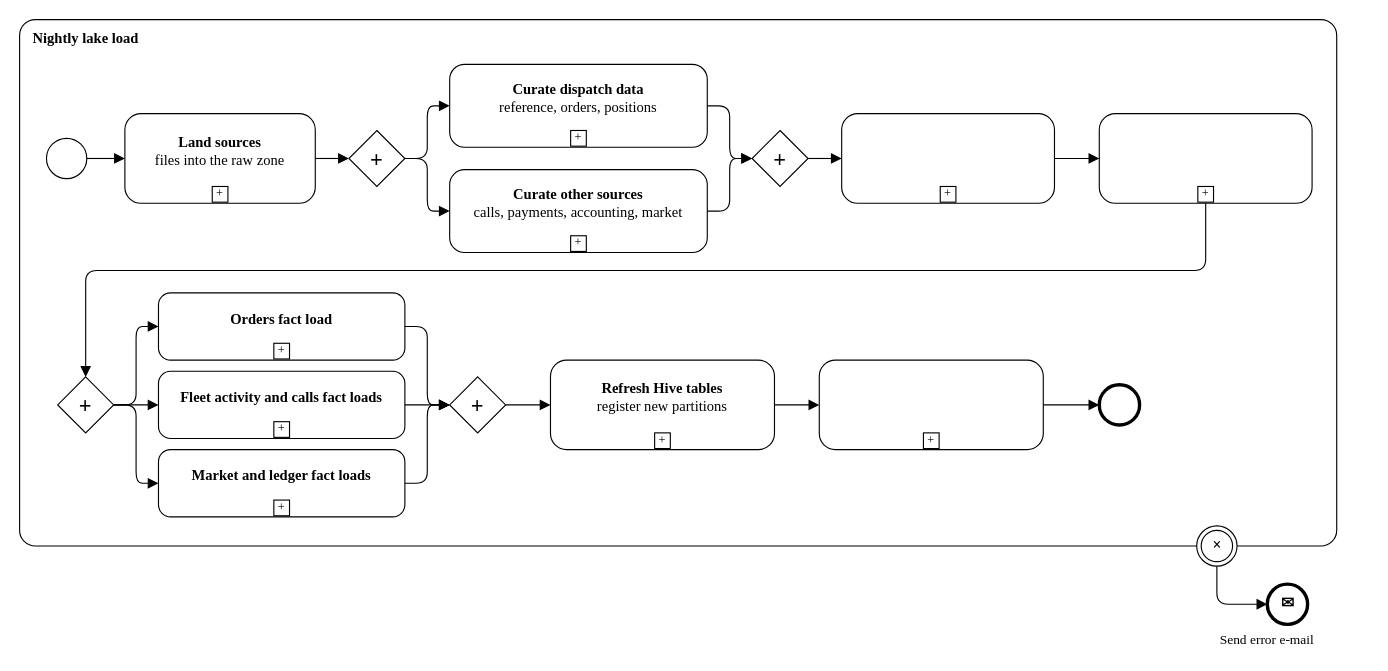
The diagram is 1388 pixels wide and 671 high, and some of its shapes have lost their labels. The box of each missing label's shape, as (x1, y1, x2, y2) in pixels:
Dimension loads 12 dimension tables: (1098, 113, 1312, 203)
Load HBase recording index, vehicle tracks (ImportTsv): (818, 359, 1043, 450)
Media index pack recordings, index video: (841, 113, 1054, 203)
